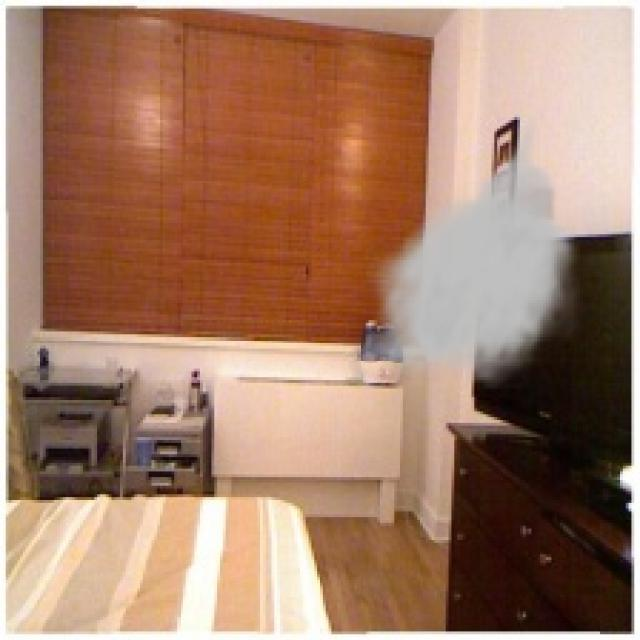Smoke: (363, 109, 583, 388)
